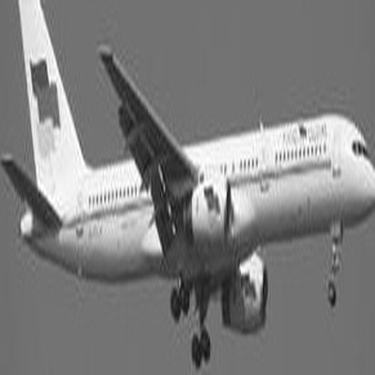airplane: (1, 6, 372, 370)
